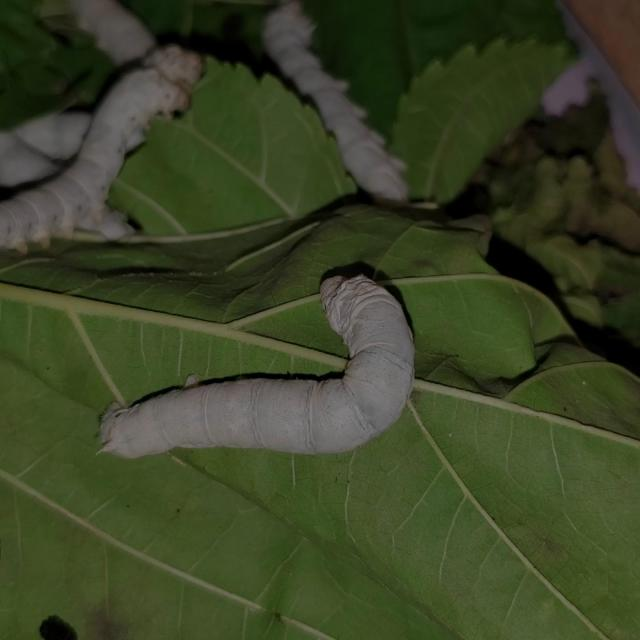Healthy: (74, 243, 460, 507), (0, 5, 216, 276), (246, 6, 445, 206)
